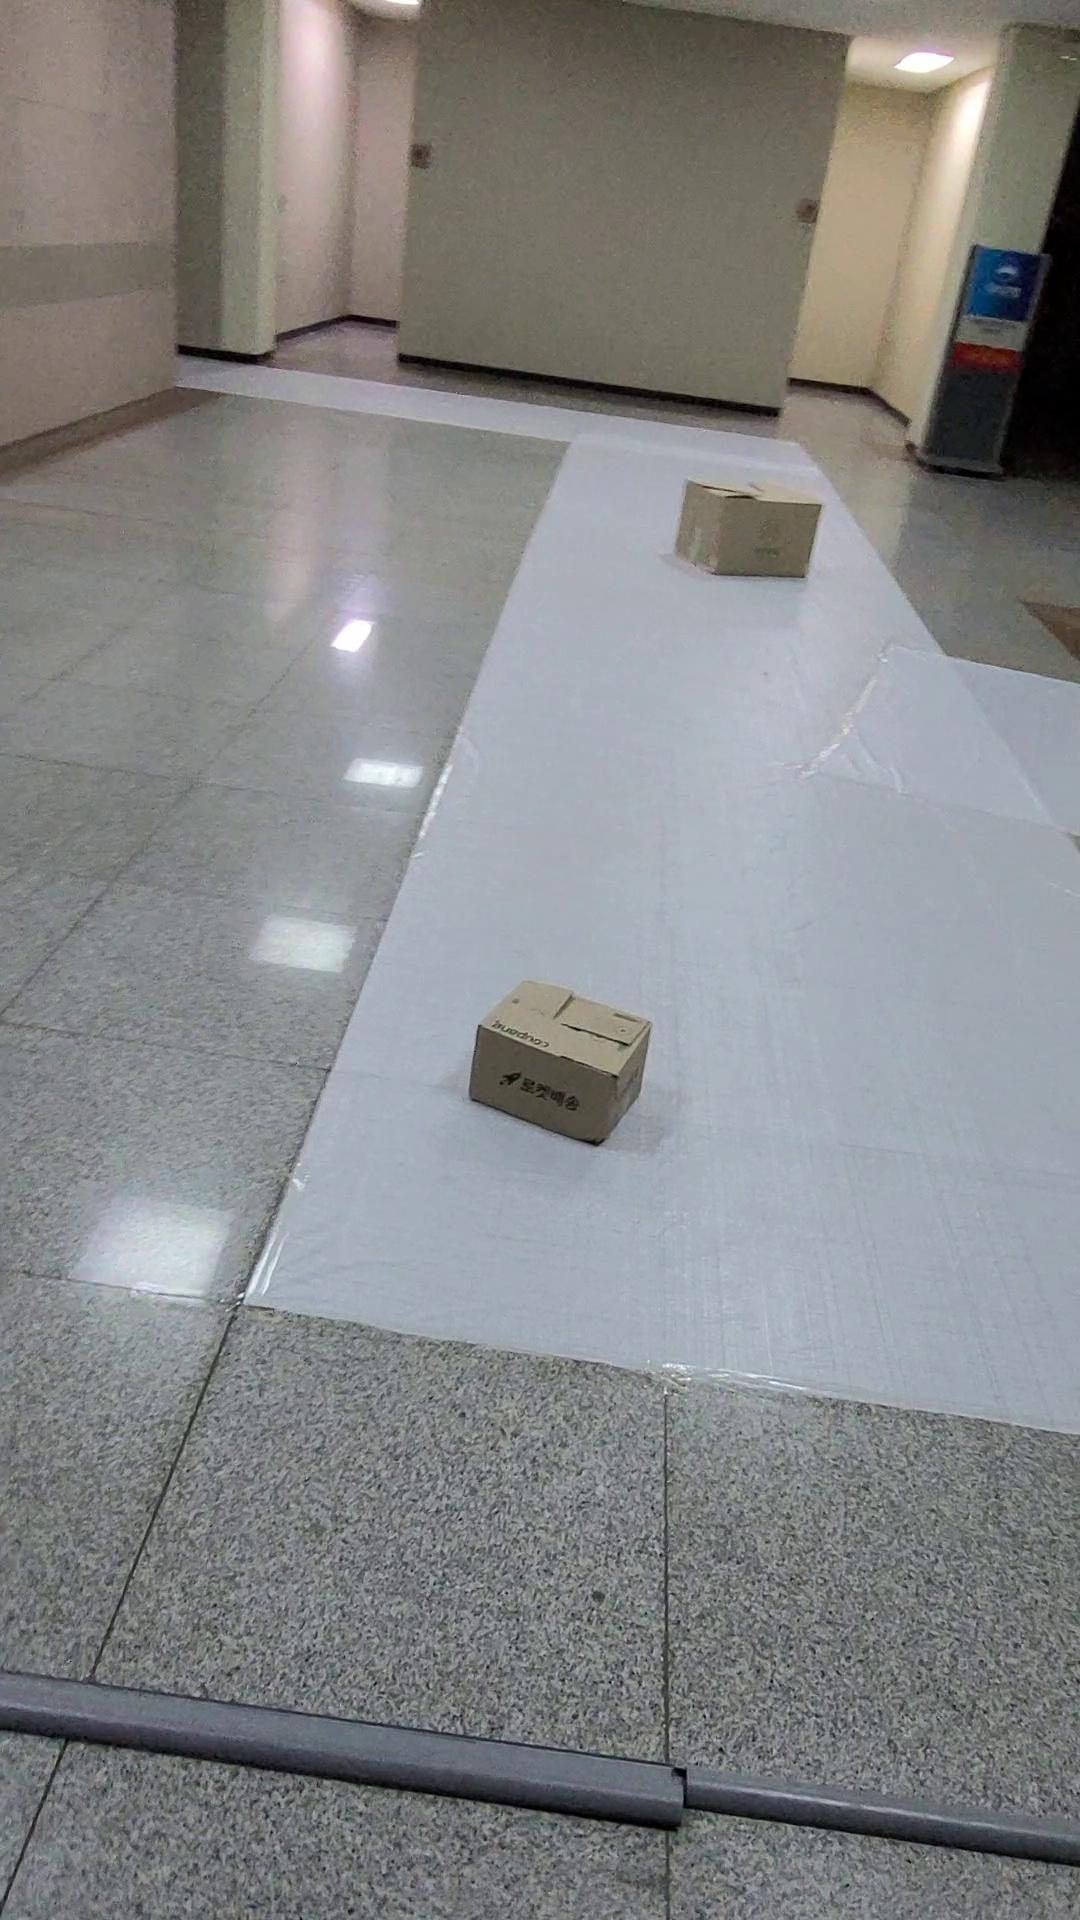Box: (454, 957, 687, 1168), (655, 448, 843, 595)
